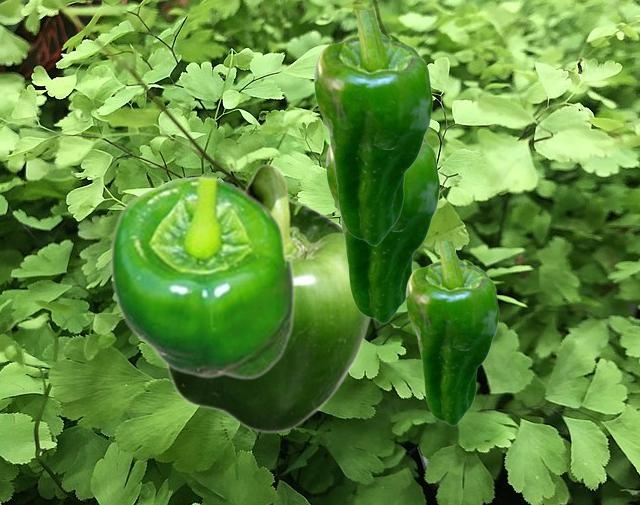bell_pepper: (164, 163, 373, 433), (108, 174, 295, 379), (313, 10, 432, 245), (325, 137, 439, 323), (405, 241, 498, 425)
